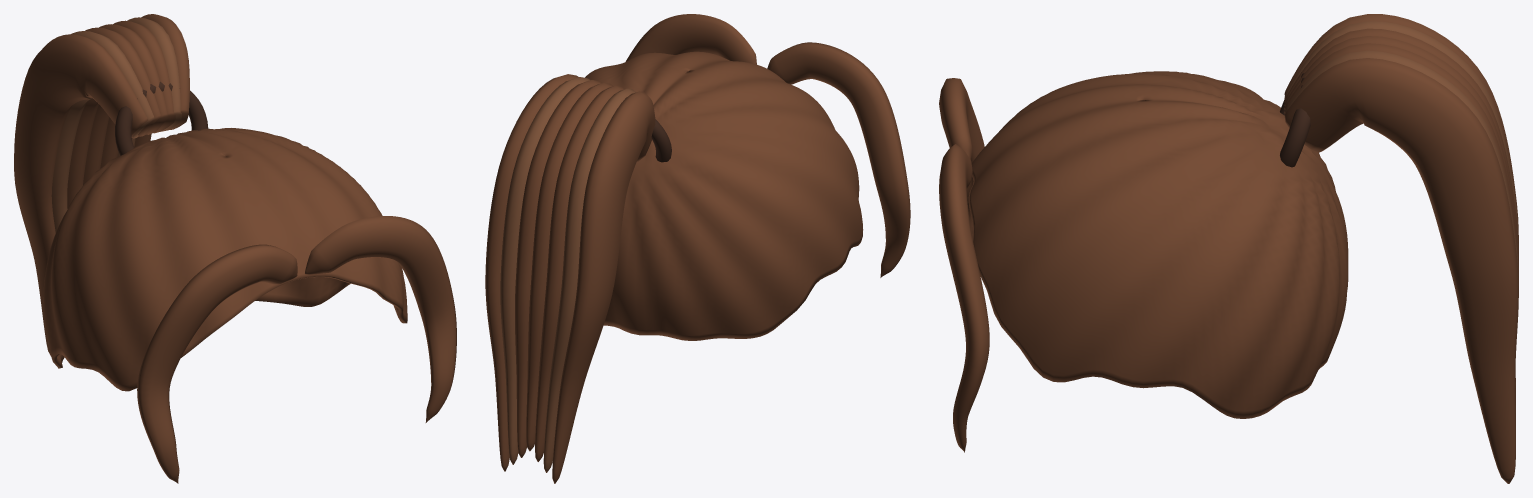
File: female_ponytail.glb
The picture shows the model from 3 angles, left to right: view 1: azimuth 30°, elevation 25°; view 2: azimuth 150°, elevation 25°; view 3: azimuth 270°, elevation 25°; orthographic projection. The views are drawn at different scales.
Parts seen in each view (by area): view 1: Hair_Female_Ponytail; view 2: Hair_Female_Ponytail; view 3: Hair_Female_Ponytail.
Part boxes in pixels (left/top/right/bottom): Hair_Female_Ponytail: left=14, top=14, right=456, bottom=483; Hair_Female_Ponytail: left=485, top=14, right=910, bottom=483; Hair_Female_Ponytail: left=939, top=14, right=1518, bottom=483.
Size of the model in its own units: 1.97 by 2.18 by 2.68.
